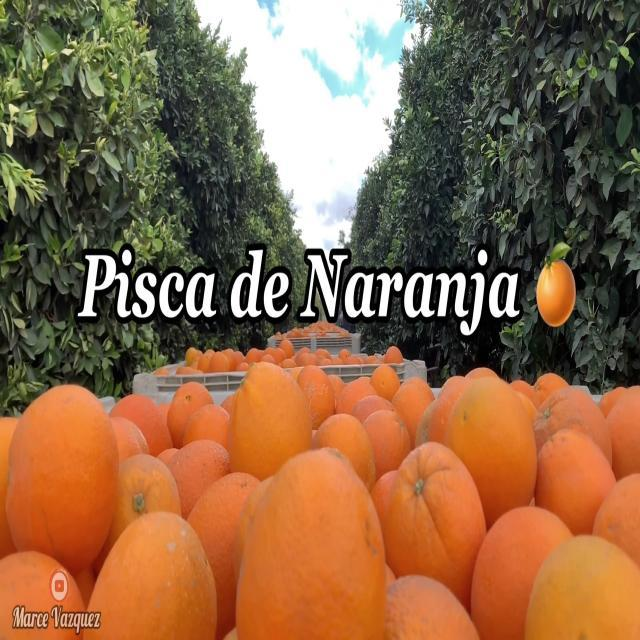Jeruk Sudah Matang: (226, 439, 388, 640), (4, 378, 113, 575), (378, 433, 492, 611), (79, 507, 220, 640), (466, 490, 578, 640), (436, 378, 544, 524), (523, 527, 640, 640), (110, 448, 183, 528), (532, 242, 582, 330)
